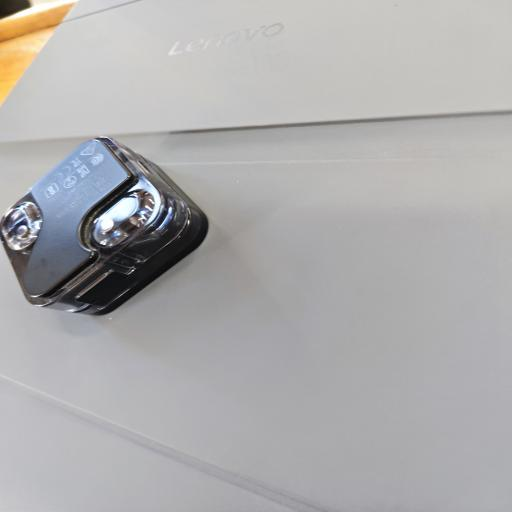Headphones: (0, 130, 214, 320)
